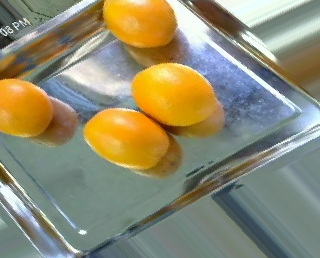Orange: (131, 61, 217, 126), (83, 108, 169, 170), (101, 0, 176, 47), (1, 78, 53, 136)
